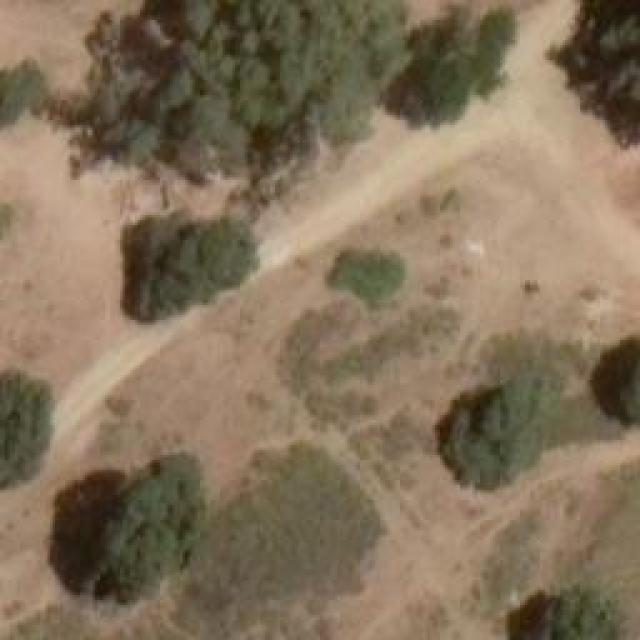Tree: (108, 0, 391, 170), (52, 460, 190, 600), (395, 0, 513, 130), (445, 372, 550, 490), (552, 0, 637, 142), (120, 218, 245, 311), (510, 582, 623, 640), (0, 363, 48, 483), (592, 330, 640, 433), (0, 62, 62, 127), (338, 245, 401, 303)
